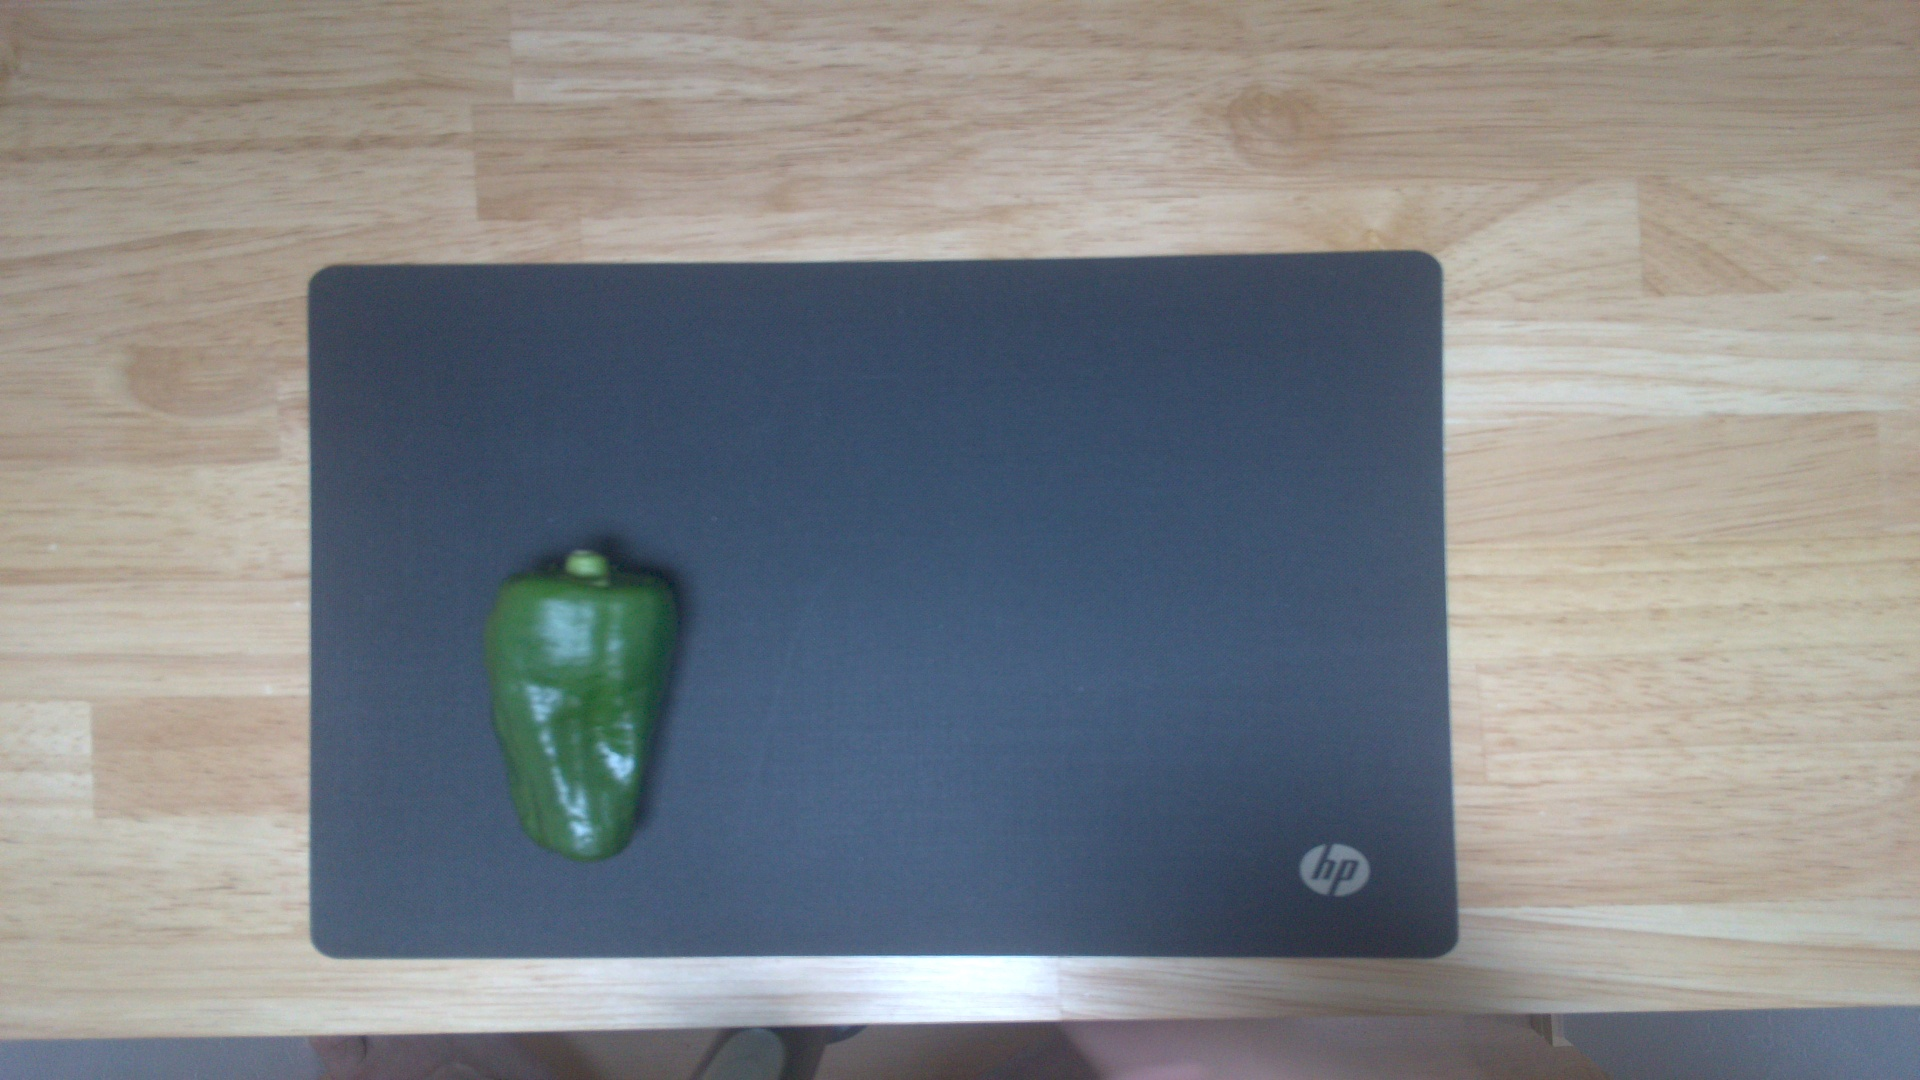Piman: (475, 553, 688, 862)
